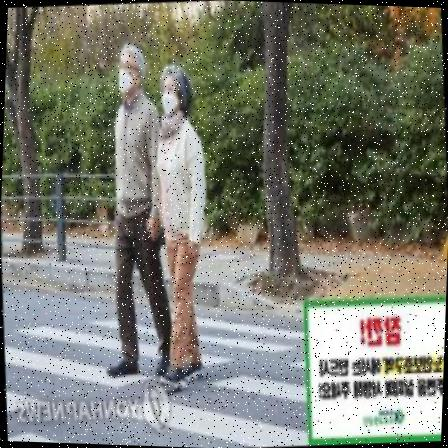silver: (87, 44, 184, 381), (134, 60, 224, 388)
